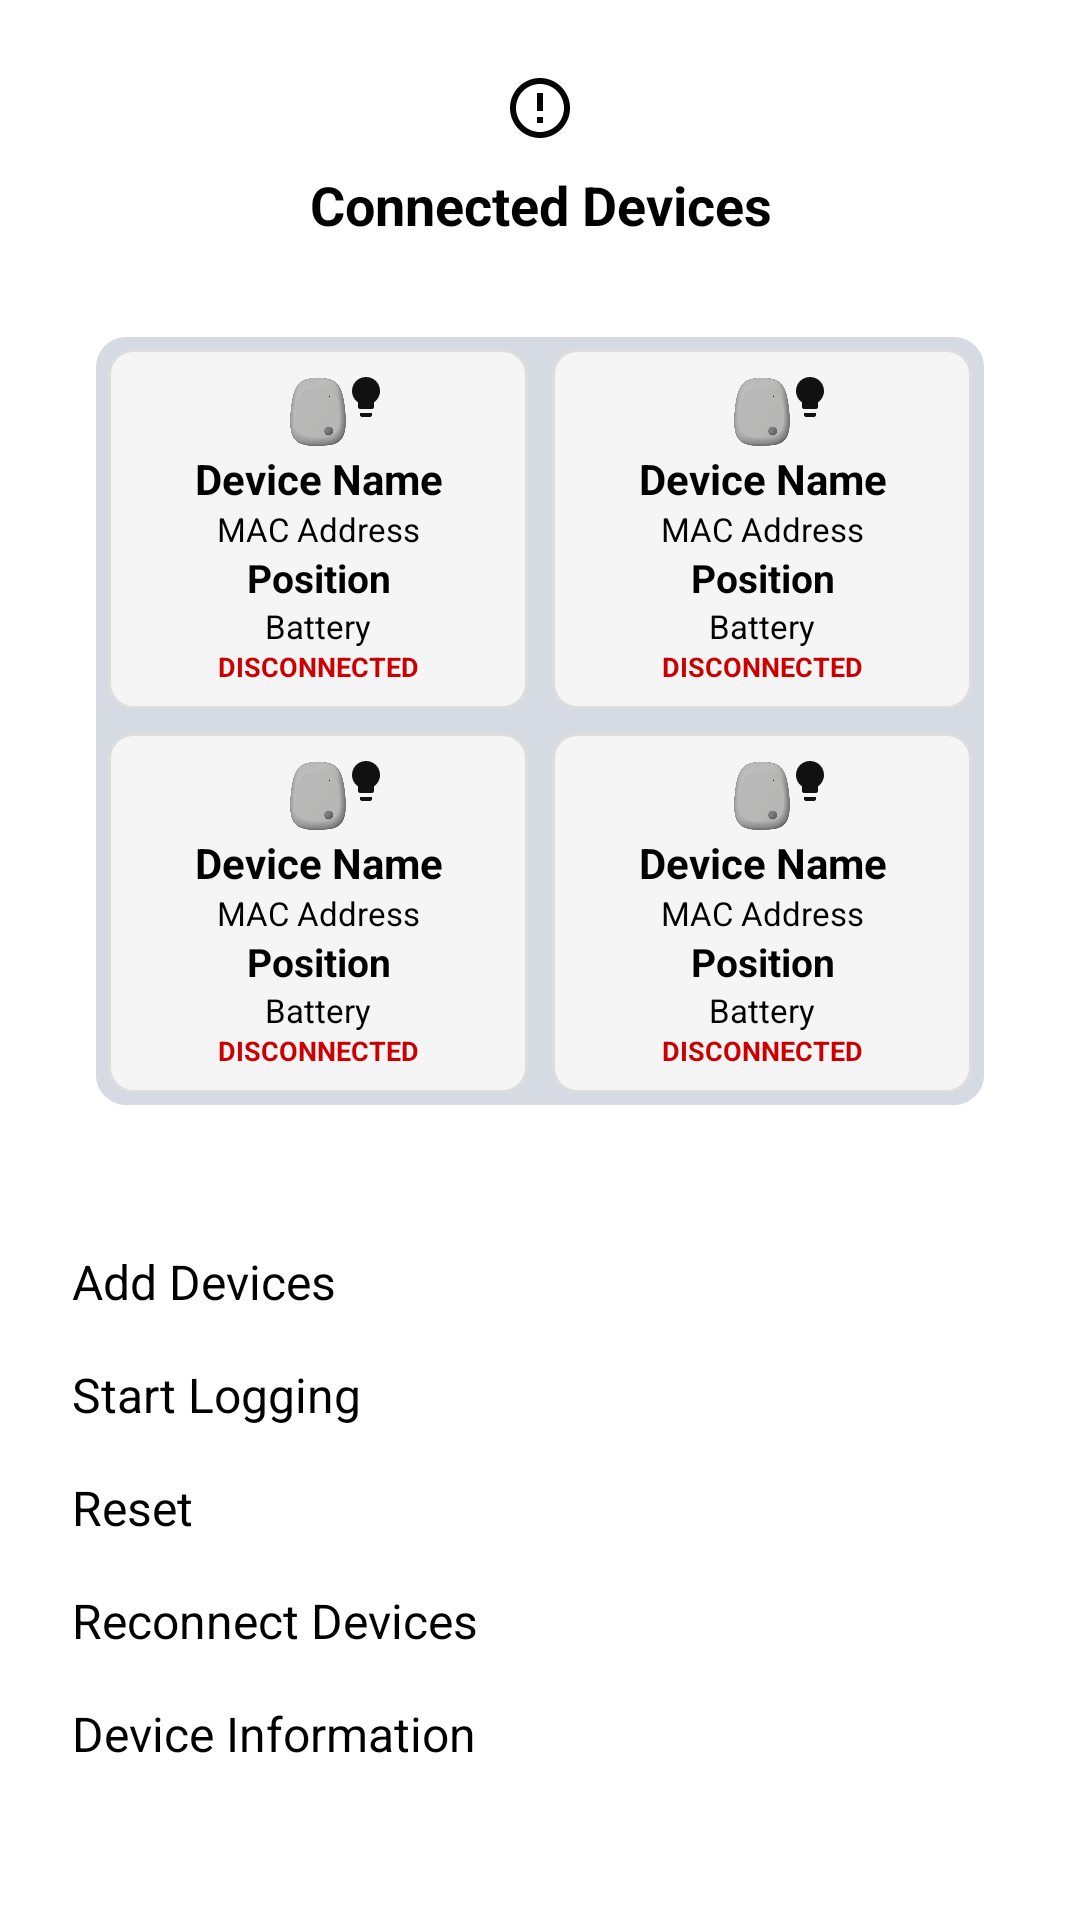

Screen size 1080px×1920px. Icon name, then its box in pixels as (x1, y1, x2, y2):
Device list info: (510, 78, 570, 138)
